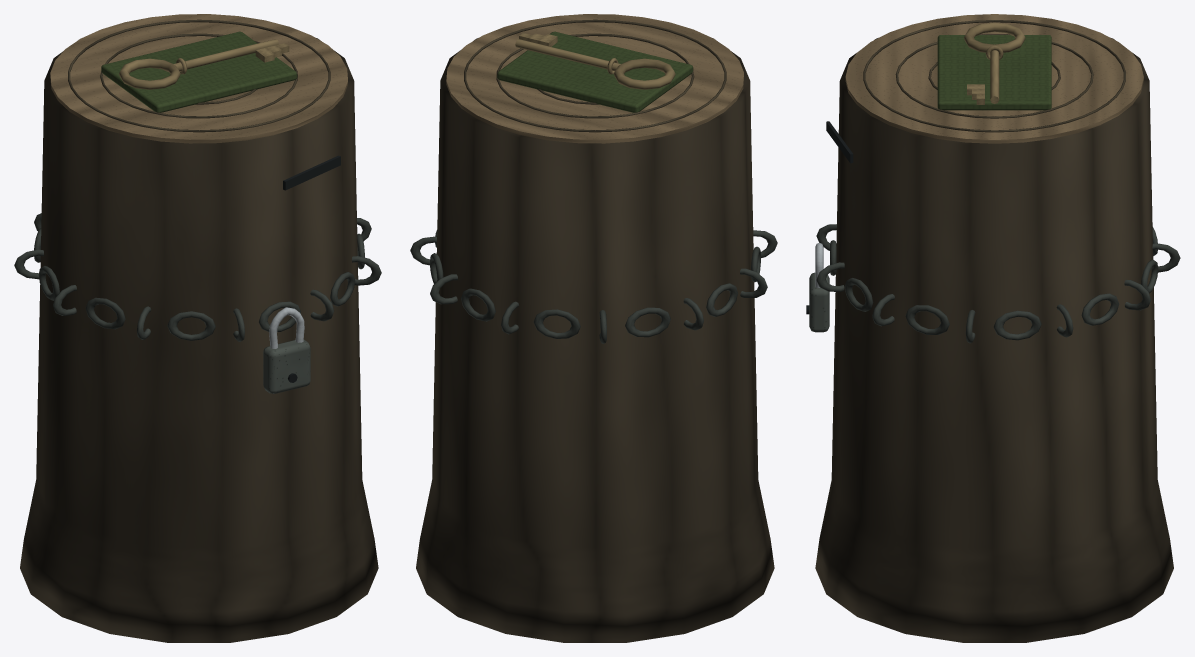
3 renders of one model, left to right at view 1: azimuth 30°, elevation 25°; view 2: azimuth 150°, elevation 25°; view 3: azimuth 270°, elevation 25°, orthographic.
Parts seen in each view (by area): view 1: rough bark timber, sawn end-grain timber, velvet cushion, blackened strap iron, hardwood bevel and dark grain, aged brass fittings, forged iron, recesses, machined steel; view 2: rough bark timber, sawn end-grain timber, velvet cushion, blackened strap iron, hardwood bevel and dark grain, aged brass fittings; view 3: rough bark timber, sawn end-grain timber, velvet cushion, blackened strap iron, hardwood bevel and dark grain, aged brass fittings, forged iron.
Boxes of the visible parts, x1,y1,x2,y2 form: rough bark timber: (20,38,378,642); sawn end-grain timber: (50,14,347,143); velvet cushion: (101,31,297,112); blackened strap iron: (14,213,381,341); hardwood bevel and dark grain: (68,19,330,132); aged brass fittings: (119,39,289,89); forged iron: (263,339,310,393); recesses: (283,155,340,382); machined steel: (269,307,304,348); rough bark timber: (416,38,774,642); sawn end-grain timber: (446,14,743,143); velvet cushion: (497,31,693,112); blackened strap iron: (410,230,777,343); hardwood bevel and dark grain: (464,19,726,132); aged brass fittings: (515,33,675,89); rough bark timber: (815,38,1173,642); sawn end-grain timber: (845,14,1143,143); velvet cushion: (937,35,1051,110); blackened strap iron: (816,224,1180,343); hardwood bevel and dark grain: (863,20,1125,132); aged brass fittings: (964,22,1025,104); forged iron: (809,272,829,332).
Bounding box in the file's own units: 0.4514 × 0.696 × 0.459.
Materials: 9 (8 with a texture image).
